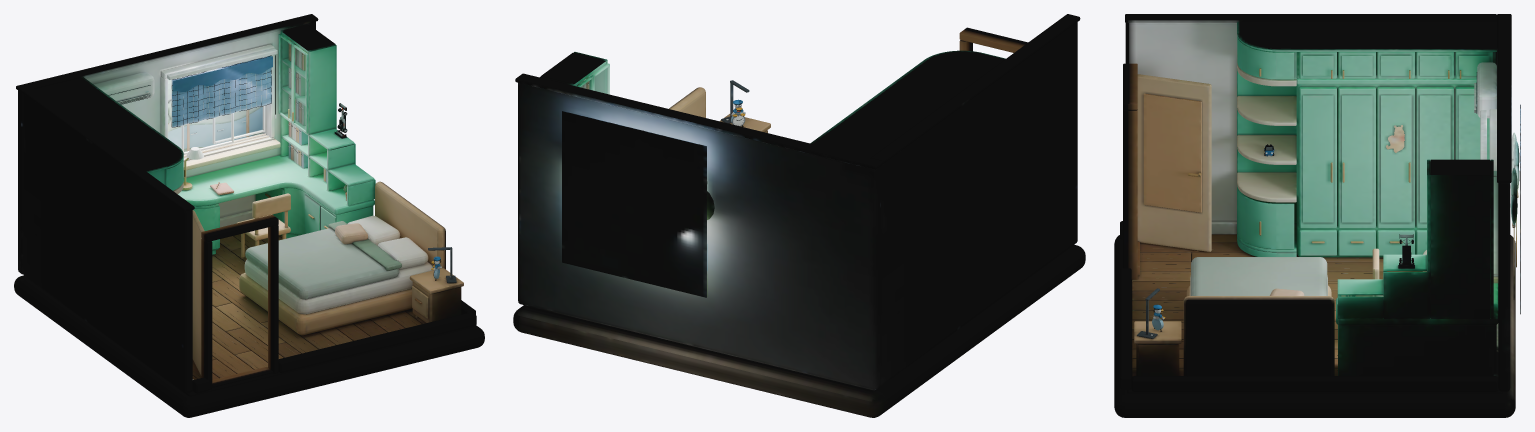
Rendered from room-01.glb.
3 views of the same model, side by side, from view 1: azimuth 30°, elevation 25°; view 2: azimuth 150°, elevation 25°; view 3: azimuth 270°, elevation 25° (orthographic). The views are drawn at different scales.
Parts seen in each view (by area): view 1: Room01_Baked; view 2: Room01_Baked; view 3: Room01_Baked.
Boxes of the visible parts, <box> form: Room01_Baked: <box>14,14,484,417</box>; Room01_Baked: <box>513,14,1085,417</box>; Room01_Baked: <box>1114,14,1520,417</box>.
Bounding box in the file's own units: 4.38 × 2.89 × 4.43.
Materials: 3 (3 with a texture image).
